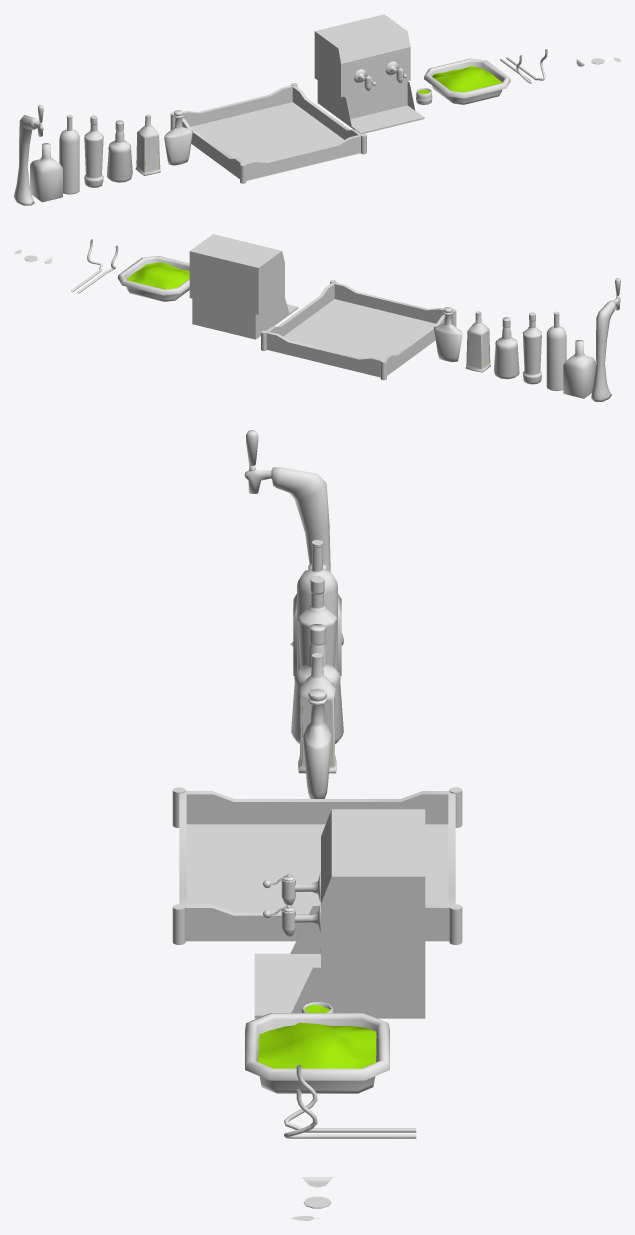
The model's file is Bar Essentials.fbx.
3 renders of one model, top to bottom at view 1: azimuth 30°, elevation 25°; view 2: azimuth 150°, elevation 25°; view 3: azimuth 270°, elevation 25°, orthographic. The views are drawn at different scales.
Parts seen in each view (by area): view 1: Glass Rack, Soda Tap, Container, Triple Sec, Beer Tap, White Wine, Rum, Gin, Vodka, Tequila; view 2: Glass Rack, Soda Tap, Container, Beer Tap, Triple Sec, White Wine, Gin, Rum, Vodka, Tequila; view 3: Soda Tap, Glass Rack, Container, Beer Tap, Tequila, Rum, Gin, Vodka, White Wine.
Boxes of the visible parts, <box> form: Glass Rack: <box>170,83,366,183</box>; Soda Tap: <box>314,14,424,133</box>; Container: <box>424,58,510,104</box>; Triple Sec: <box>30,143,62,202</box>; Beer Tap: <box>14,105,43,205</box>; White Wine: <box>59,115,79,194</box>; Rum: <box>107,120,132,182</box>; Gin: <box>135,114,160,175</box>; Vodka: <box>84,115,103,187</box>; Tequila: <box>164,110,192,165</box>; Glass Rack: <box>261,280,456,380</box>; Soda Tap: <box>189,234,298,339</box>; Container: <box>117,256,189,301</box>; Beer Tap: <box>591,278,620,401</box>; Triple Sec: <box>563,340,595,398</box>; White Wine: <box>546,311,566,390</box>; Gin: <box>465,311,490,372</box>; Rum: <box>493,317,519,379</box>; Vodka: <box>522,312,541,384</box>; Tequila: <box>433,307,462,362</box>; Soda Tap: <box>254,809,425,1018</box>; Glass Rack: <box>172,787,462,944</box>; Container: <box>245,1013,389,1093</box>; Beer Tap: <box>244,430,343,646</box>; Tequila: <box>303,688,331,798</box>; Rum: <box>291,624,343,743</box>; Gin: <box>298,653,336,773</box>; Vodka: <box>297,576,337,667</box>; White Wine: <box>297,540,337,671</box>.
Size of the model in its own units: 493 by 104 by 85.21.
